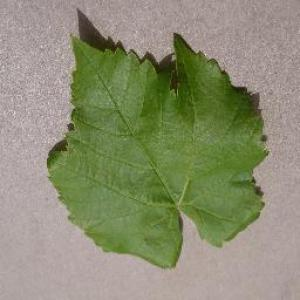Folha: (46, 7, 270, 270)
